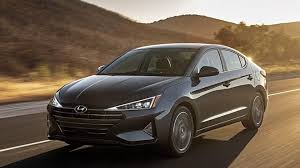car: (48, 42, 269, 157)
